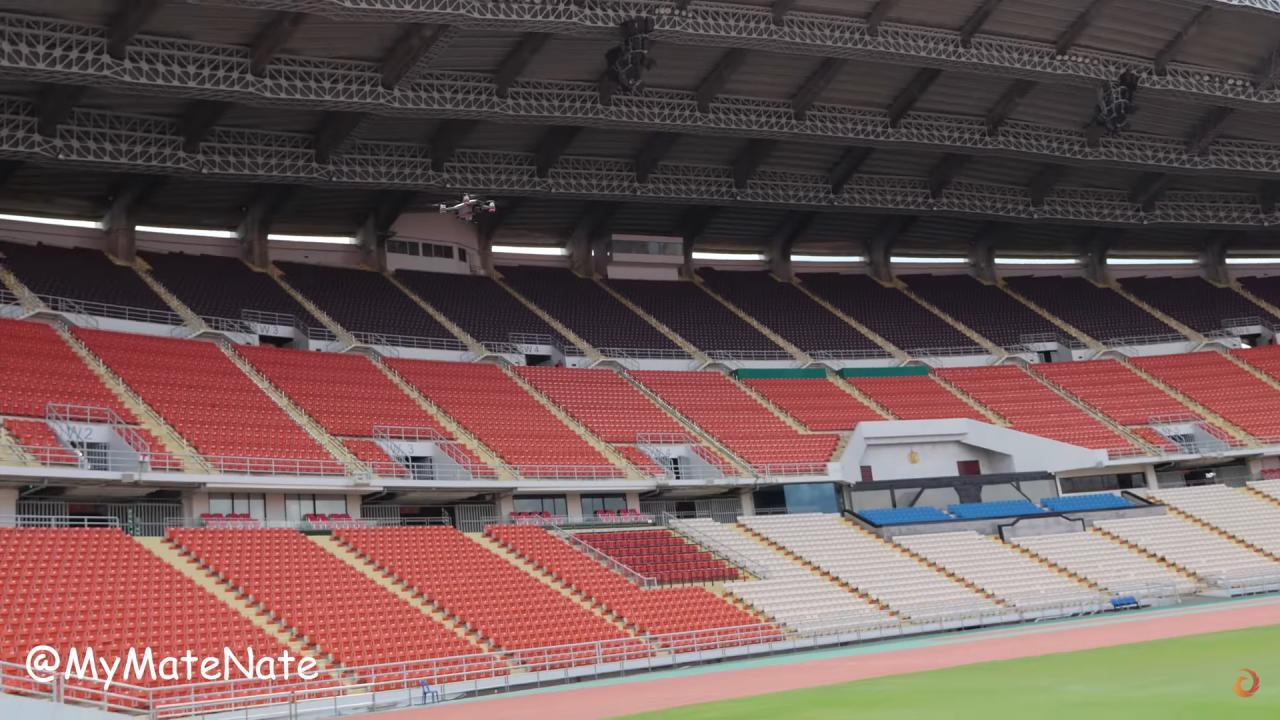Drone: (420, 177, 515, 238)
